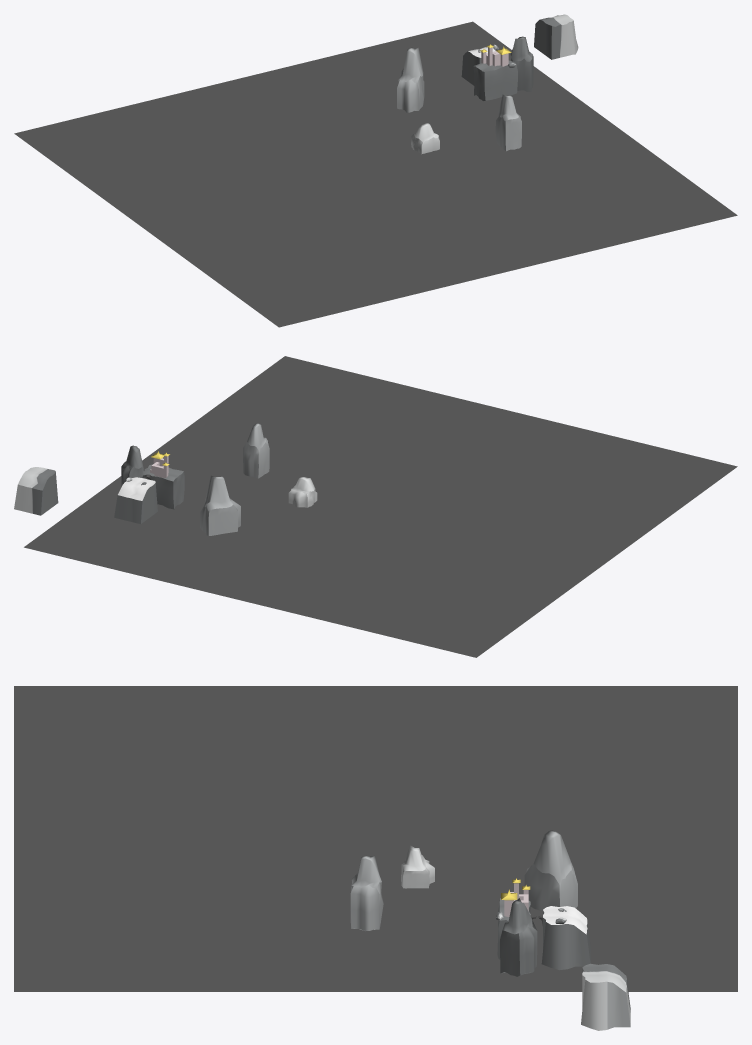
Rendered from Peak_temple.fbx.
3 views of the same model, one above another, from view 1: azimuth 30°, elevation 25°; view 2: azimuth 150°, elevation 25°; view 3: azimuth 270°, elevation 25° (orthographic). The views are drawn at different scales.
Parts seen in each view (by area): view 1: Peak_temple; view 2: Peak_temple; view 3: Peak_temple.
Boxes of the visible parts, box(x1,y1,x2,y2) form: Peak_temple: box(14, 14, 737, 327); Peak_temple: box(14, 356, 737, 657); Peak_temple: box(14, 686, 737, 1030).
Size of the model in its own units: 1678 by 228 by 1500.
2 materials, 1 textured.
